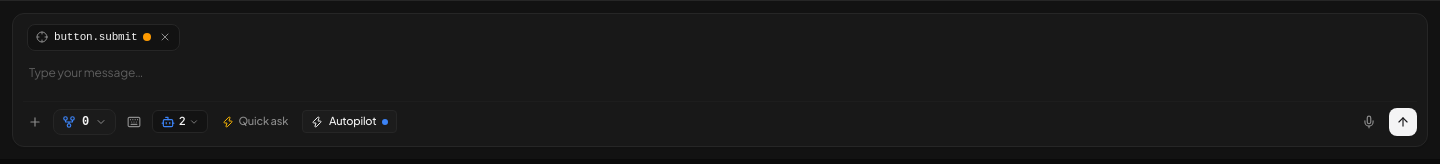
Test case: ChatInputBar — element context chips (plan §8-F12) › bấm nút xoá trên chip gọi removePendingElement và chip biến mất
Click the button named "Remove attached element".
click(165, 37)  # box [159,31,171,43]
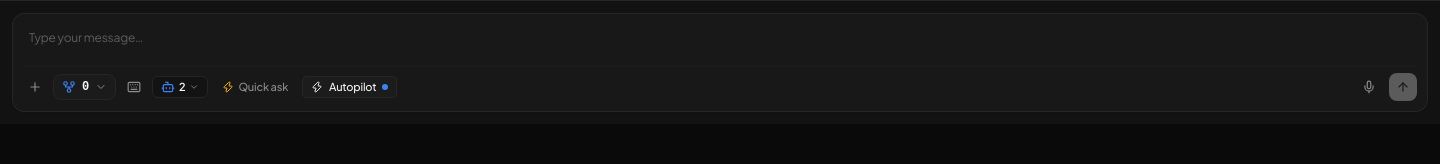
Now the text "button.submit" is gone
